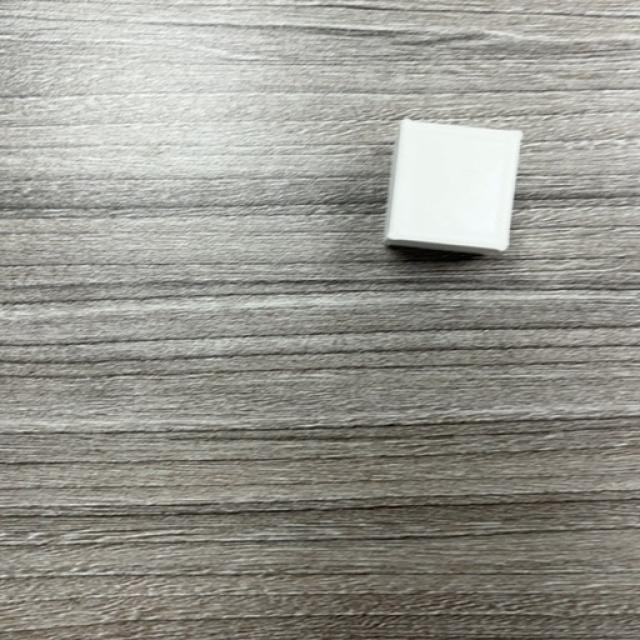Blanco: (385, 120, 524, 256)
